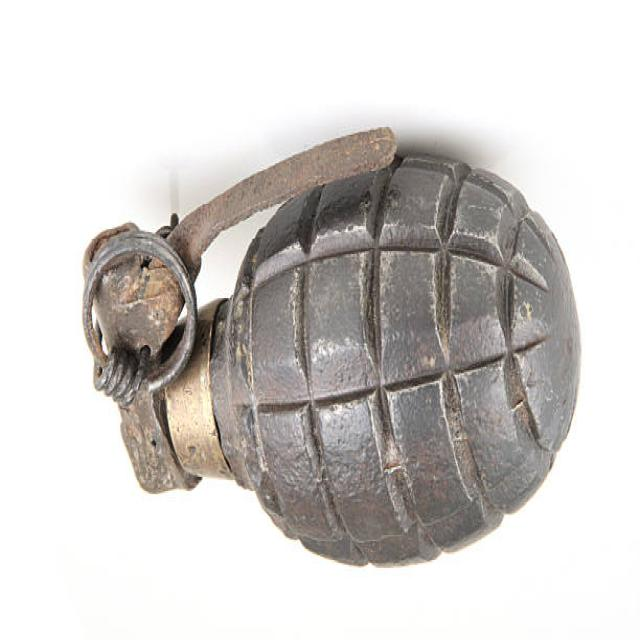grenade: (73, 117, 585, 589)
